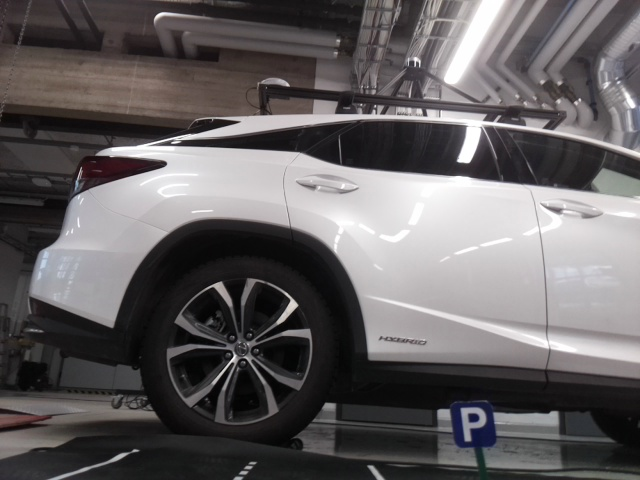Parking: (449, 400, 495, 447)
